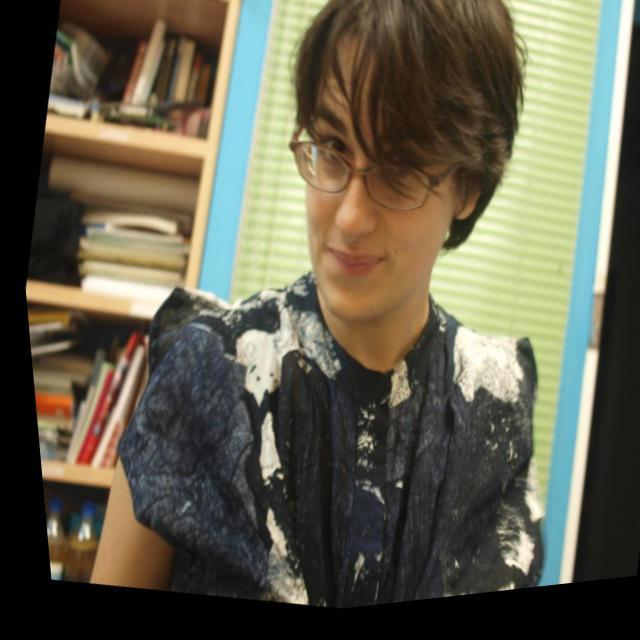Nonhelmet: (281, 0, 531, 323)
